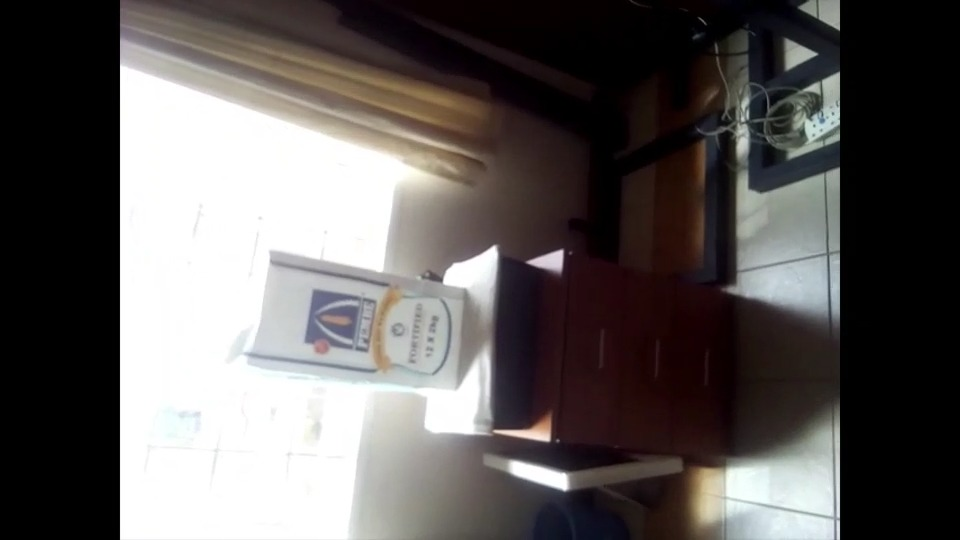wheat_flour_blue_label: (244, 253, 461, 388)
